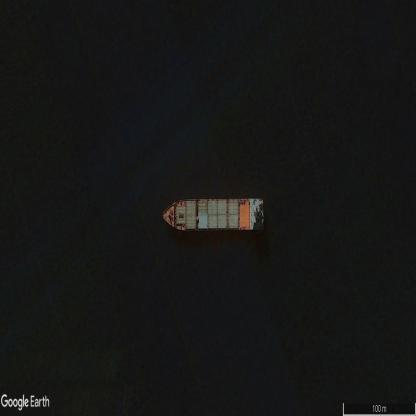ship: (162, 198, 264, 230)
